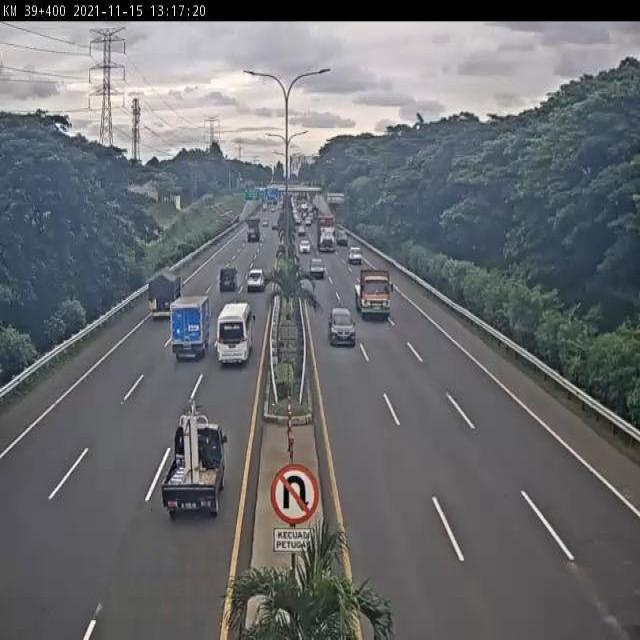bus-s-: (213, 297, 258, 368)
car: (328, 305, 359, 348), (217, 263, 239, 296), (245, 265, 267, 295), (307, 254, 329, 282), (345, 243, 365, 269)
truck-l-: (352, 265, 393, 324)
truck-s-: (162, 412, 229, 527), (169, 292, 213, 361), (144, 266, 184, 322)
